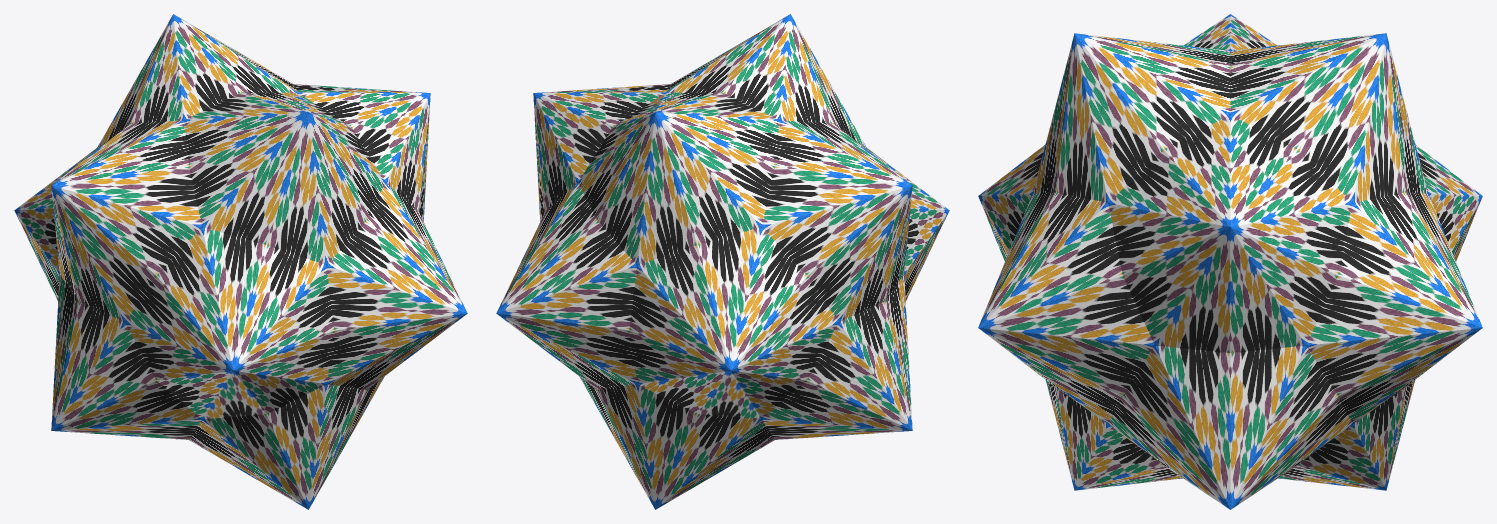
The model's file is 2SmallDodecacronicHexecontahedron.obj.
3 views of the same model, side by side, from view 1: azimuth 30°, elevation 25°; view 2: azimuth 150°, elevation 25°; view 3: azimuth 270°, elevation 25° (orthographic). The views are drawn at different scales.
Size of the model in its own units: 5.24 by 5.24 by 5.24.
Materials: 1 (1 with a texture image).
